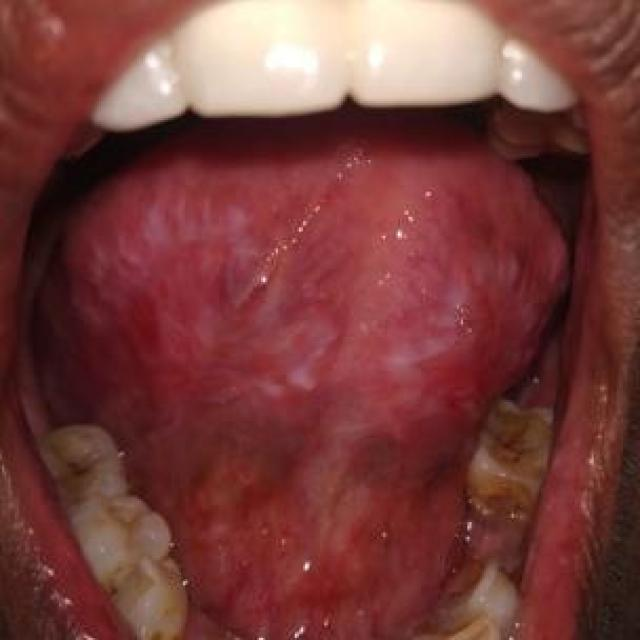leukoplakia-detection: (47, 176, 568, 442)
processing_area: (29, 138, 581, 638)
